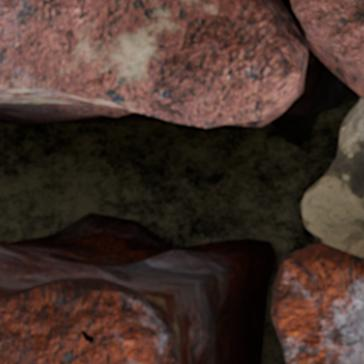brick: (0, 280, 175, 363), (273, 244, 363, 363)
broken_brick: (0, 0, 302, 126), (293, 0, 363, 99)
crack: (0, 0, 362, 363)
